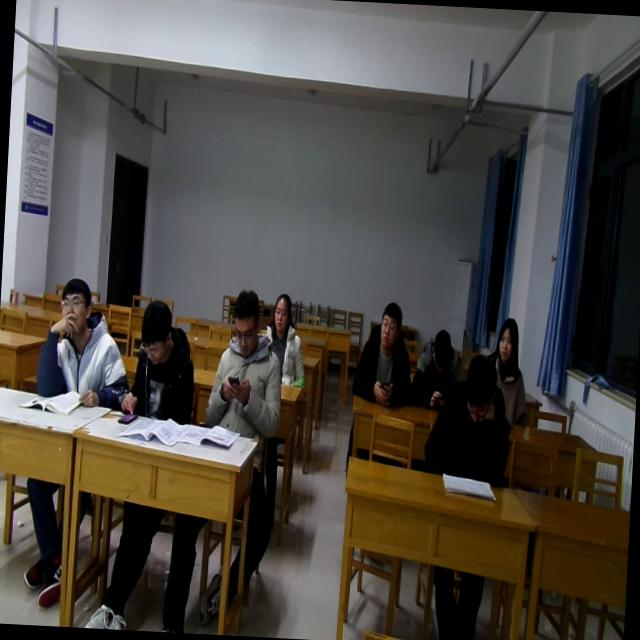bow: (420, 344, 517, 488), (407, 326, 472, 414)
down: (458, 350, 499, 431), (137, 292, 179, 369), (228, 285, 262, 362), (426, 325, 453, 377)
lookup: (55, 275, 96, 341), (494, 313, 520, 371), (376, 297, 404, 350), (270, 291, 295, 337)
sit: (32, 274, 134, 414), (202, 287, 289, 440), (258, 290, 310, 510), (118, 296, 200, 422), (348, 295, 418, 412), (483, 313, 534, 427)
